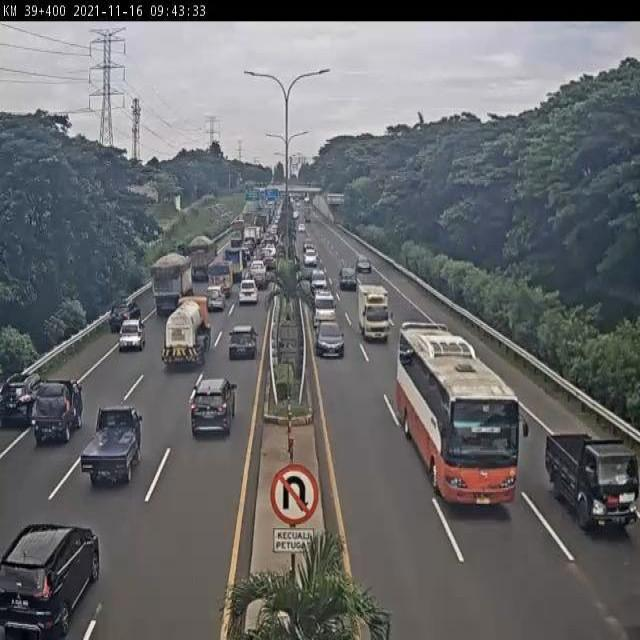big bus: (396, 320, 530, 511)
car: (0, 522, 102, 640), (81, 403, 145, 485), (30, 378, 82, 446), (191, 376, 239, 443), (0, 372, 42, 429), (314, 322, 347, 362), (228, 329, 258, 364), (107, 301, 140, 332), (118, 319, 147, 353), (314, 288, 337, 328), (237, 282, 259, 310), (205, 287, 226, 313)
small truck: (544, 431, 640, 536), (357, 280, 393, 341)
truck-l-: (147, 253, 194, 323)
truck-m-: (159, 295, 212, 372)
